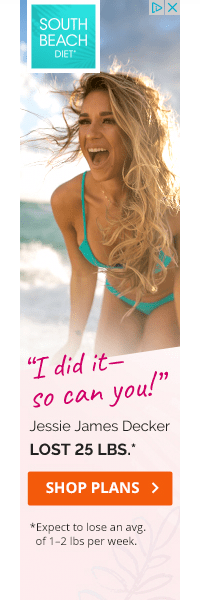fake_button: (20, 462, 186, 509), (142, 0, 182, 23)
